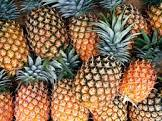Pineapple: (74, 11, 138, 108), (118, 30, 162, 107), (23, 1, 70, 61), (15, 55, 56, 121), (52, 49, 89, 121), (1, 5, 30, 77)
